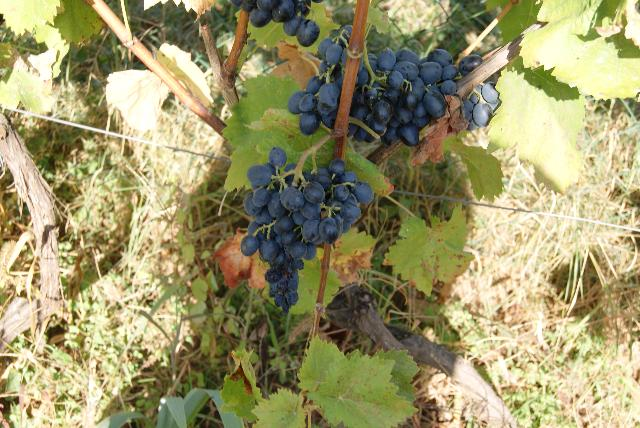grapes: (240, 148, 374, 314), (349, 49, 482, 148), (288, 26, 352, 135), (459, 82, 500, 129)
